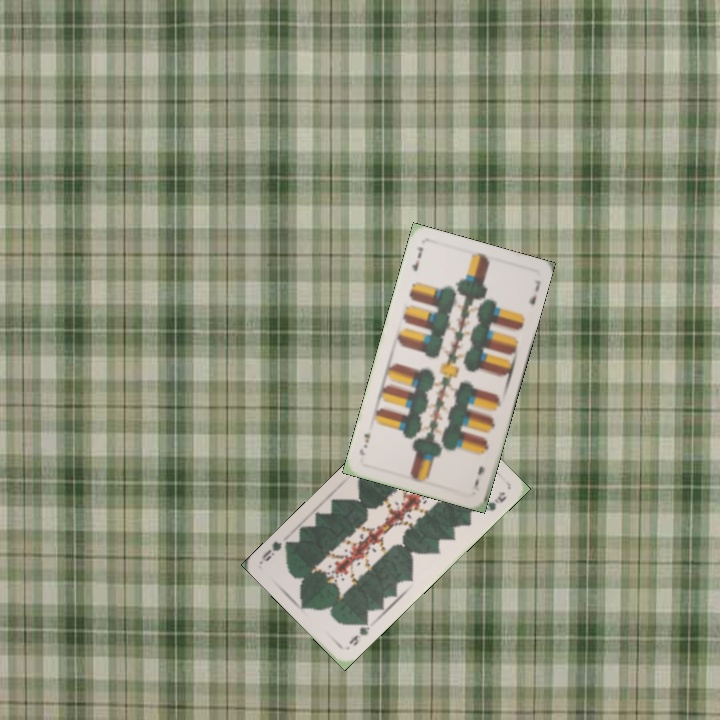E7: (470, 462, 487, 494), (408, 243, 425, 274)
G9: (345, 615, 372, 648)
